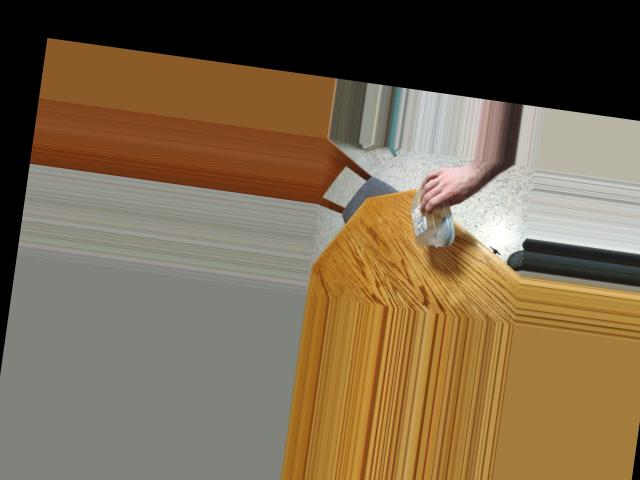cheese: (410, 172, 464, 232)
